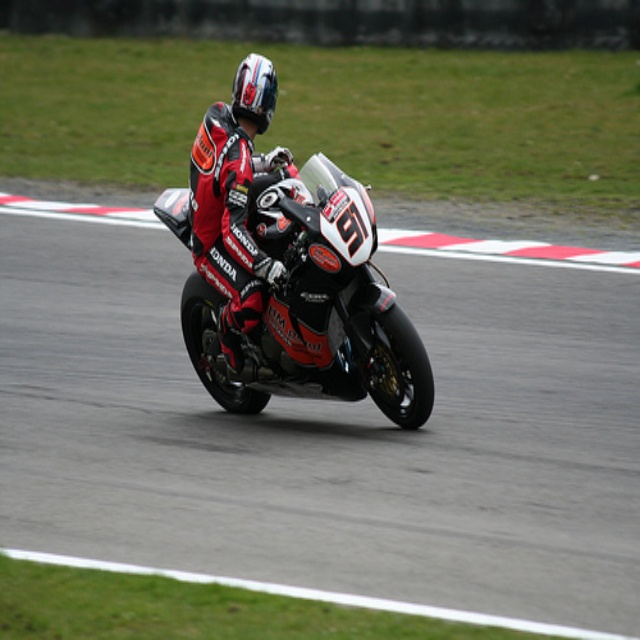Motorcycle: (152, 152, 435, 432)
